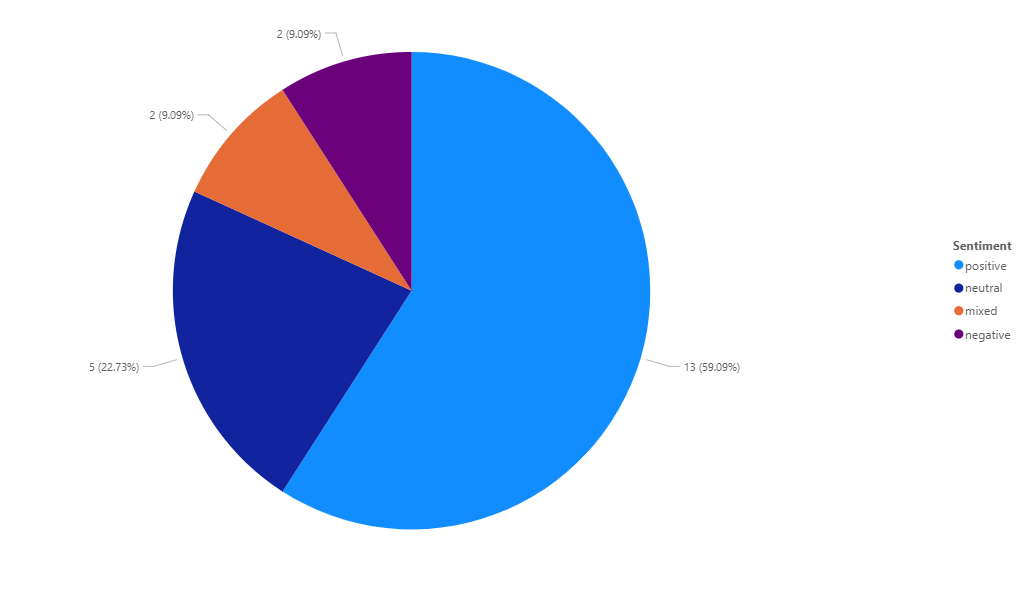

Layout of this report page (visuals, bound fields, positions):
{"tool":"powerbi","page":{"name":"Page 1","canvas":[1280,720],"ordinal":0},"visuals":[{"type":"pieChart","fields":{"Category":["Sheet1.Sentiment"],"Y":["CountNonNull(Sheet1.ID)"]},"box":[0,0,1280.3,720.4],"z":0}]}

Visuals, with their boxes in screenshot pixels (x1, y1, x2, y2), scaled from the page's 1280x720 canvas onto the 1022x591 screenshot:
pieChart - Sheet1.Sentiment x CountNonNull(Sheet1.ID): [0, 0, 1021, 590]
